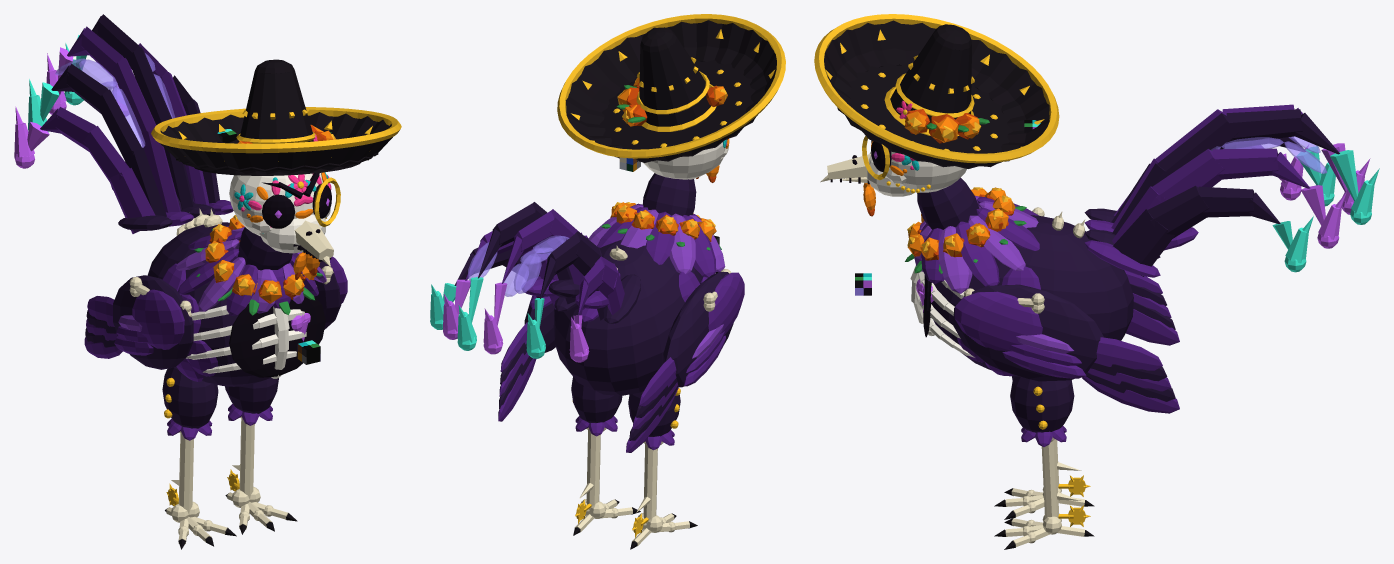
File: GalloCatrin.fbx
3 views of the same model, side by side, from view 1: azimuth 30°, elevation 25°; view 2: azimuth 150°, elevation 25°; view 3: azimuth 270°, elevation 25° (orthographic). The views are drawn at different scales.
Visible parts, largest first — view 1: Cuerpo, Cola, Sombrero, Cabeza, AlaDer, PataDer, PataIzq, Cola__Brillo_alma_morada, Cola__Vidrio, AlaIzq, Cola__Brillo_alma_turquesa, _Frente (+1 smaller); view 2: Sombrero, Cuerpo, Cola, AlaDer, PataIzq, Cabeza, PataDer, AlaIzq, Cola__Brillo_alma_morada, Cola__Brillo_alma_turquesa, Cola__Vidrio; view 3: Sombrero, Cuerpo, Cola, AlaIzq, PataIzq, Cabeza, Cola__Brillo_alma_turquesa, Cola__Brillo_alma_morada, AlaDer, PataDer, Cola__Vidrio.
Boxes of the visible parts, x1,y1,x2,y2 form: Cuerpo: (118, 200, 326, 386); Cola: (40, 14, 219, 233); Sombrero: (151, 59, 401, 175); Cabeza: (229, 172, 340, 270); AlaDer: (84, 275, 193, 369); PataDer: (162, 367, 236, 549); PataIzq: (225, 377, 297, 534); Cola__Brillo_alma_morada: (14, 47, 131, 168); Cola__Vidrio: (55, 53, 175, 147); AlaIzq: (314, 256, 347, 329); Cola__Brillo_alma_turquesa: (28, 35, 86, 132); _Frente: (297, 340, 320, 364); Sombrero: (557, 14, 785, 162); Cuerpo: (529, 202, 725, 395); Cola: (454, 202, 624, 324); AlaDer: (626, 269, 744, 452); PataIzq: (571, 377, 640, 535); Cabeza: (642, 139, 729, 215); PataDer: (628, 388, 697, 549); AlaIzq: (498, 235, 588, 421); Cola__Brillo_alma_morada: (443, 279, 589, 362); Cola__Brillo_alma_turquesa: (430, 277, 545, 358); Cola__Vidrio: (467, 235, 569, 296); Sombrero: (814, 14, 1059, 168); Cuerpo: (905, 187, 1160, 376); Cola: (1111, 104, 1339, 276); AlaIzq: (953, 284, 1179, 413); PataIzq: (994, 376, 1094, 549); Cabeza: (820, 135, 979, 229); Cola__Brillo_alma_turquesa: (1272, 146, 1379, 272); Cola__Brillo_alma_morada: (1279, 143, 1370, 248); AlaDer: (1032, 207, 1179, 345); PataDer: (994, 376, 1094, 519); Cola__Vidrio: (1211, 136, 1327, 173).
Bounding box in the file's own units: 298 × 651 × 669.
Materials: 3 (3 with a texture image).
